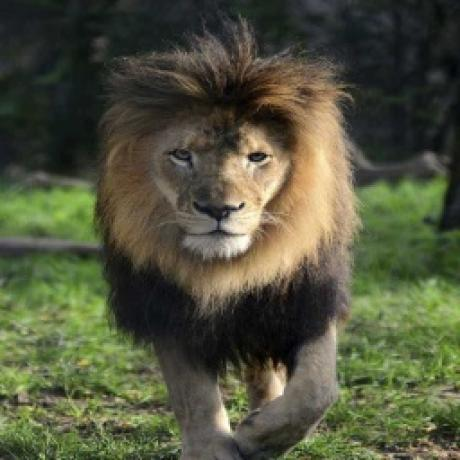Lion: (89, 21, 365, 460)
